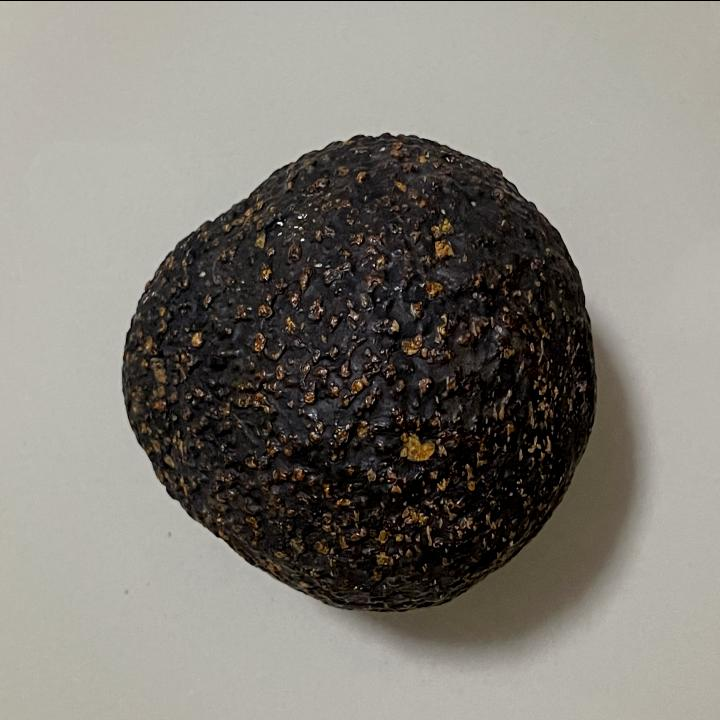Level3: (112, 121, 604, 620)
